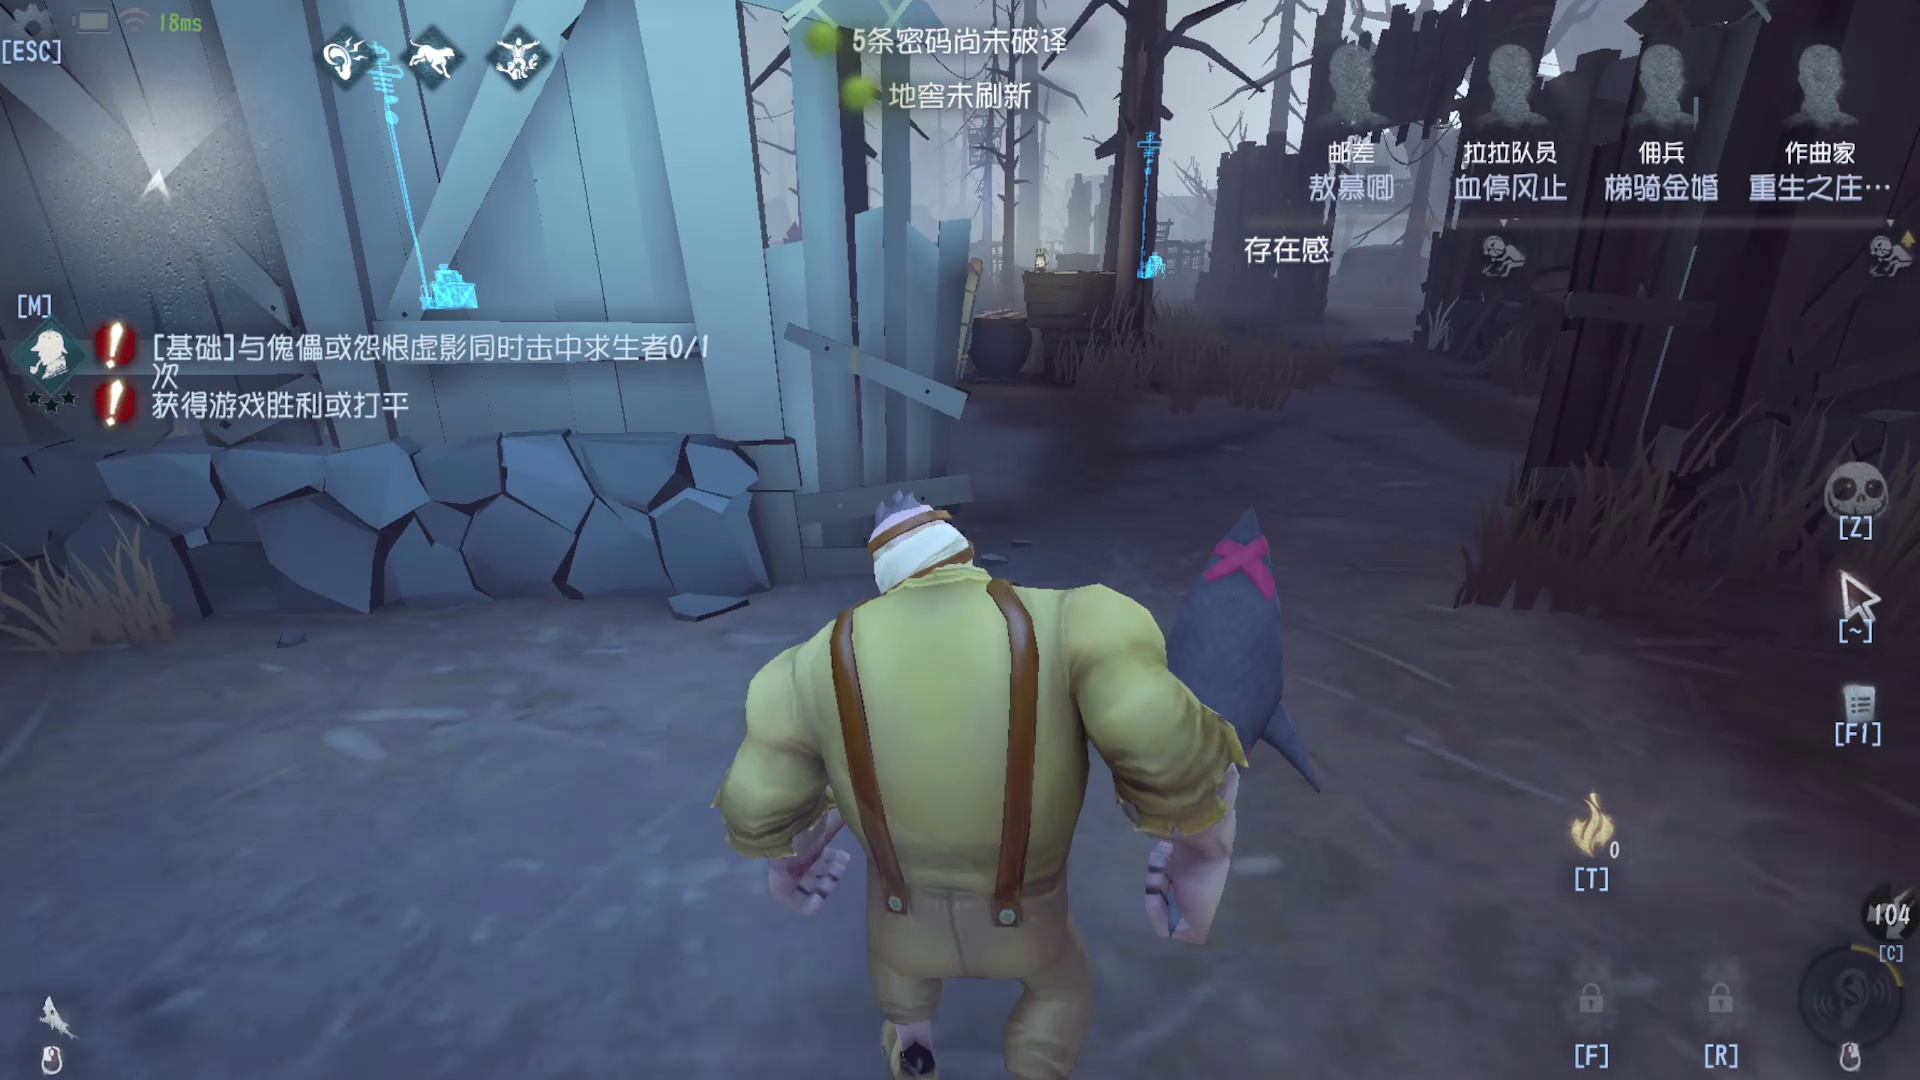密码机: (327, 34, 498, 334), (1117, 102, 1175, 272)
木板: (939, 222, 986, 390)
